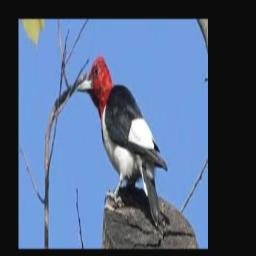Woodpecker: (76, 56, 167, 226)
